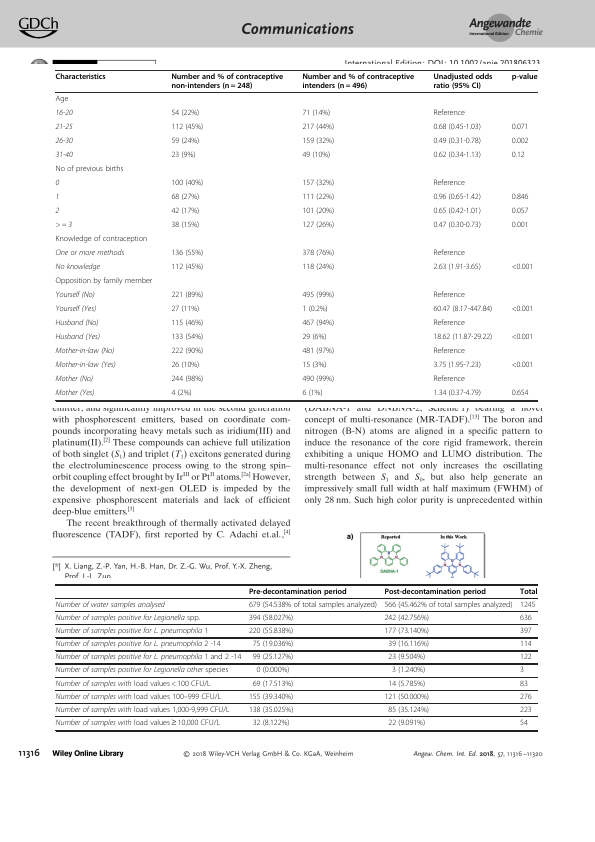borderless: (54, 69, 537, 400), (55, 583, 537, 730)
cell: (170, 73, 284, 91), (301, 73, 415, 91), (55, 705, 231, 715), (55, 653, 242, 662), (55, 692, 222, 702), (55, 639, 221, 649), (55, 718, 221, 728), (55, 666, 229, 675), (55, 626, 209, 636), (55, 613, 201, 623), (55, 679, 211, 688), (248, 600, 378, 610), (383, 600, 513, 610), (55, 600, 166, 610), (432, 73, 493, 91), (55, 277, 153, 287), (383, 587, 487, 596), (55, 235, 148, 245), (248, 587, 347, 596), (55, 165, 124, 175), (55, 249, 125, 258), (432, 305, 493, 315), (432, 333, 493, 343), (55, 361, 117, 370), (55, 347, 115, 356), (432, 123, 482, 133), (432, 137, 482, 147), (432, 151, 482, 161), (432, 193, 482, 203), (432, 207, 482, 217), (432, 221, 482, 231), (432, 263, 482, 273), (432, 361, 482, 371), (432, 389, 482, 399), (383, 613, 430, 623), (383, 626, 430, 636), (383, 692, 430, 702), (55, 73, 107, 82), (248, 613, 294, 623), (248, 626, 294, 636), (248, 692, 294, 702), (248, 705, 294, 715), (55, 263, 101, 273), (387, 639, 430, 649), (387, 705, 430, 715), (252, 639, 294, 649), (55, 333, 101, 342), (55, 319, 99, 328), (387, 718, 426, 728), (252, 718, 290, 728), (252, 653, 294, 662), (252, 679, 294, 688), (55, 305, 97, 314), (55, 291, 96, 300), (55, 389, 95, 398), (387, 653, 426, 662), (387, 679, 426, 688), (55, 375, 94, 384), (432, 109, 466, 119), (170, 123, 204, 133), (301, 123, 335, 133), (301, 137, 335, 147), (170, 179, 204, 189), (301, 179, 335, 189), (432, 179, 466, 189), (301, 193, 335, 203), (301, 207, 335, 217), (301, 221, 335, 231), (170, 249, 204, 259), (301, 249, 335, 259), (432, 249, 466, 259), (170, 263, 204, 273), (301, 263, 335, 273), (170, 291, 204, 301), (301, 291, 335, 301), (432, 291, 466, 301), (170, 319, 204, 329), (301, 319, 335, 329), (432, 319, 466, 329), (170, 333, 204, 343), (170, 347, 204, 357), (301, 347, 335, 357), (432, 347, 466, 357), (170, 375, 204, 385), (301, 375, 335, 385), (432, 375, 466, 385), (255, 666, 290, 675), (391, 666, 426, 675), (170, 109, 200, 119), (301, 109, 331, 119), (170, 137, 200, 147), (301, 151, 331, 161), (170, 193, 200, 203), (170, 207, 200, 217), (170, 221, 200, 231), (170, 305, 200, 315), (170, 361, 200, 371), (301, 305, 329, 315), (170, 151, 196, 161), (301, 333, 327, 343), (301, 361, 327, 371), (511, 73, 538, 82), (511, 263, 534, 273), (511, 305, 534, 315), (511, 333, 534, 343), (511, 361, 534, 371), (170, 389, 192, 399), (301, 389, 323, 399), (511, 123, 529, 133), (511, 137, 529, 147), (511, 193, 529, 203), (511, 207, 529, 217), (511, 221, 529, 231), (511, 389, 529, 399), (519, 587, 538, 596), (519, 600, 536, 610), (55, 109, 73, 118), (55, 123, 73, 132), (55, 137, 73, 146), (55, 151, 73, 160), (55, 221, 73, 230), (511, 151, 526, 161), (519, 613, 533, 623), (519, 626, 533, 636), (519, 639, 533, 649), (519, 692, 533, 702), (519, 705, 533, 715), (55, 95, 69, 105), (519, 653, 533, 662), (519, 718, 529, 728), (519, 679, 529, 688), (519, 666, 525, 675), (55, 179, 60, 188), (55, 193, 60, 202), (55, 207, 60, 216)
